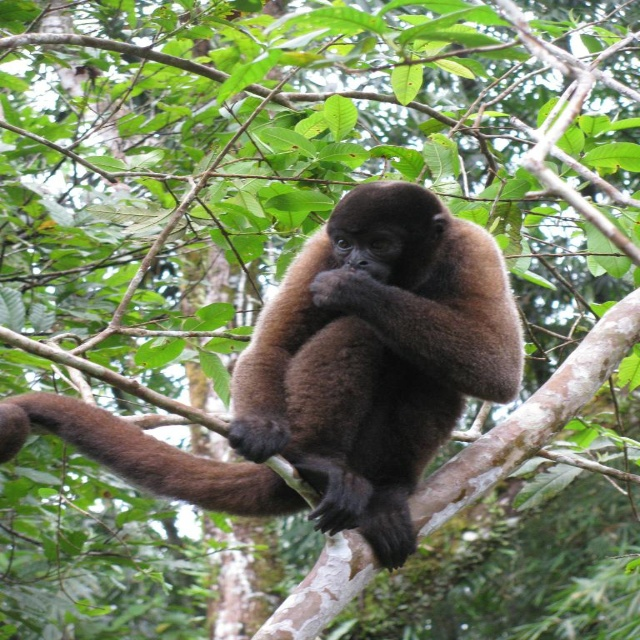Monkey: (0, 180, 526, 572)
